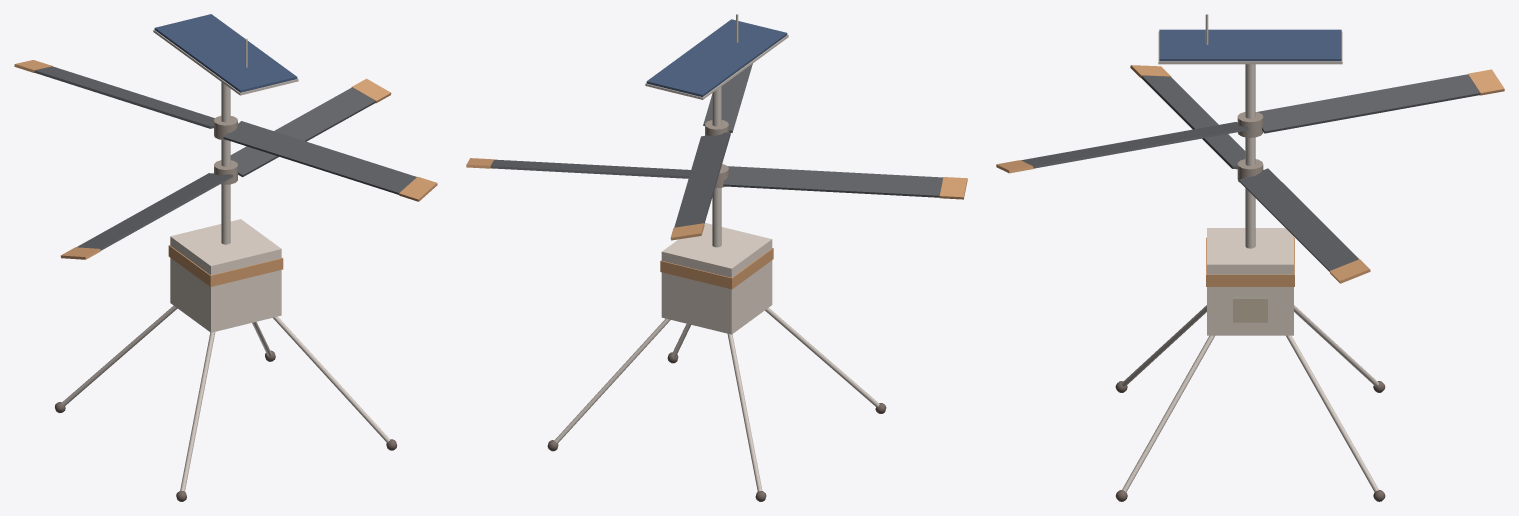
File: V13_helicopter_drone.glb
The picture shows the model from 3 angles, left to right: view 1: azimuth 30°, elevation 25°; view 2: azimuth 150°, elevation 25°; view 3: azimuth 270°, elevation 25°; orthographic projection. The views are drawn at different scales.
Visible parts, largest first — view 1: blade (×4), body, solar_panel, landing_leg (×3), rotor (×2), body_stripe, rotor_mast, solar_frame; view 2: blade (×4), body, solar_panel, landing_leg (×3), body_stripe, rotor_mast, rotor; view 3: blade (×4), body, solar_panel, landing_leg (×4), rotor (×2), rotor_mast, body_stripe, camera_window, solar_frame.
Boxes of the visible parts, x1=… form: blade (×4): x1=34, y1=66, x2=416, y2=250; body: x1=170, y1=219, x2=281, y2=332; solar_panel: x1=154, y1=14, x2=297, y2=92; landing_leg (×3): x1=61, y1=305, x2=390, y2=491; rotor (×2): x1=14, y1=60, x2=437, y2=259; body_stripe: x1=168, y1=245, x2=283, y2=286; rotor_mast: x1=221, y1=82, x2=230, y2=244; solar_frame: x1=153, y1=29, x2=298, y2=95; blade (×4): x1=490, y1=63, x2=943, y2=227; body: x1=661, y1=223, x2=772, y2=334; solar_panel: x1=646, y1=19, x2=787, y2=96; landing_leg (×3): x1=554, y1=307, x2=879, y2=491; body_stripe: x1=660, y1=248, x2=773, y2=289; rotor_mast: x1=712, y1=86, x2=721, y2=247; rotor: x1=466, y1=158, x2=967, y2=199; blade (×4): x1=1021, y1=74, x2=1480, y2=271; body: x1=1207, y1=228, x2=1293, y2=335; solar_panel: x1=1159, y1=29, x2=1341, y2=61; landing_leg (×4): x1=1122, y1=305, x2=1378, y2=492; rotor (×2): x1=996, y1=65, x2=1504, y2=283; rotor_mast: x1=1245, y1=64, x2=1255, y2=248; body_stripe: x1=1206, y1=237, x2=1294, y2=286; camera_window: x1=1233, y1=296, x2=1267, y2=322; solar_frame: x1=1158, y1=31, x2=1342, y2=64.
Size of the model in its own units: 1.17 by 1.1 by 1.17.
